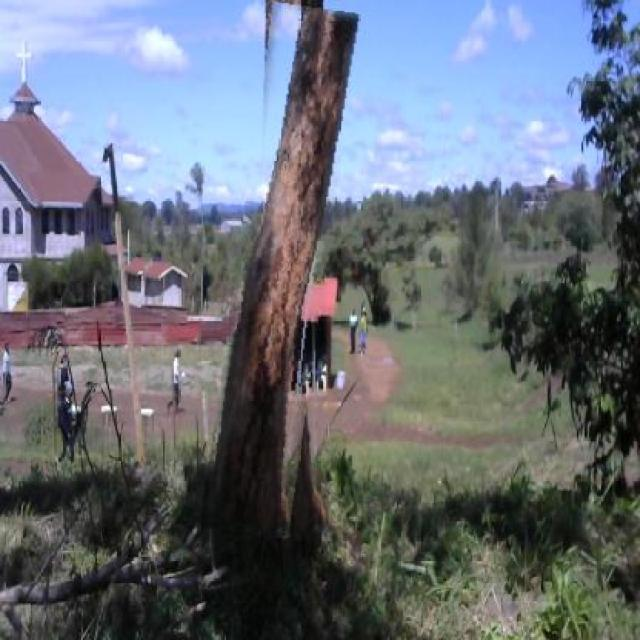tree trunk: (219, 3, 344, 537)
